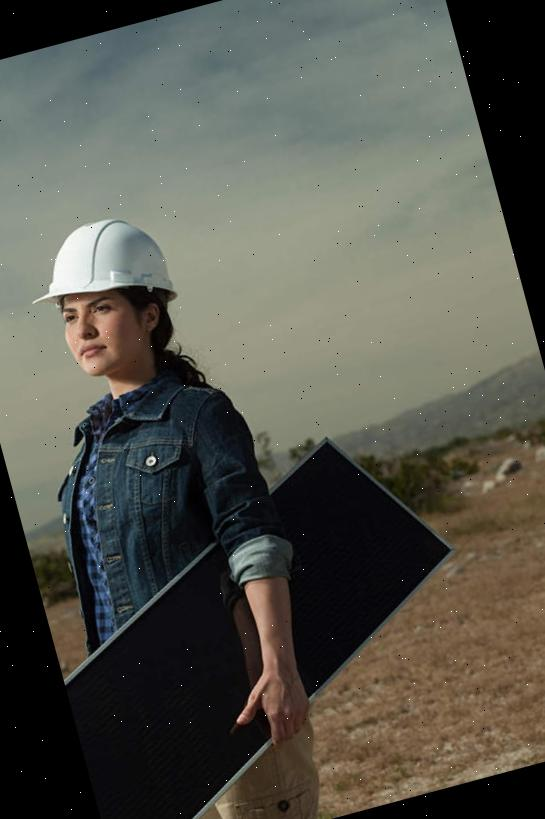helmet: (18, 204, 186, 334)
no_wear: (34, 375, 282, 642)
